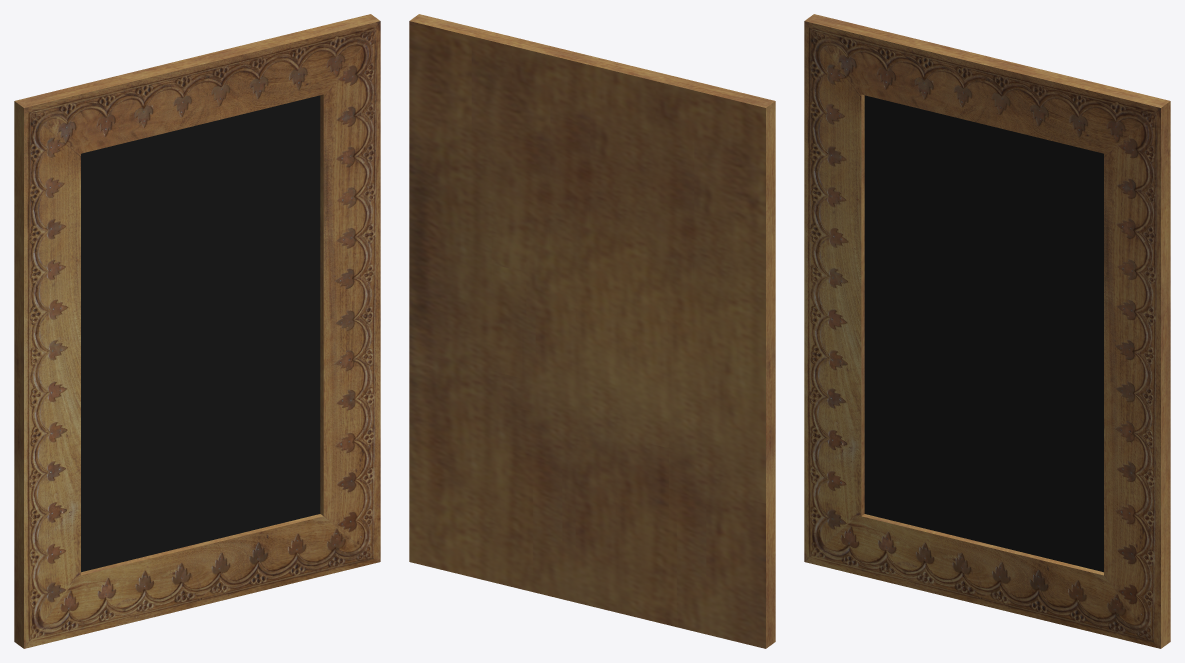
Rendered from Mirror.FBX.
3 renders of one model, left to right at view 1: azimuth 30°, elevation 25°; view 2: azimuth 150°, elevation 25°; view 3: azimuth 330°, elevation 25°, orthographic.
Parts seen in each view (by area): view 1: Mirror; view 2: Mirror; view 3: Mirror.
Part boxes in pixels (left/top/right/bottom): Mirror: left=14, top=14, right=380, bottom=648; Mirror: left=409, top=14, right=775, bottom=648; Mirror: left=804, top=14, right=1170, bottom=648.
Bounding box in the file's own units: 84.96 × 123 × 3.98.
2 materials, 1 textured.
